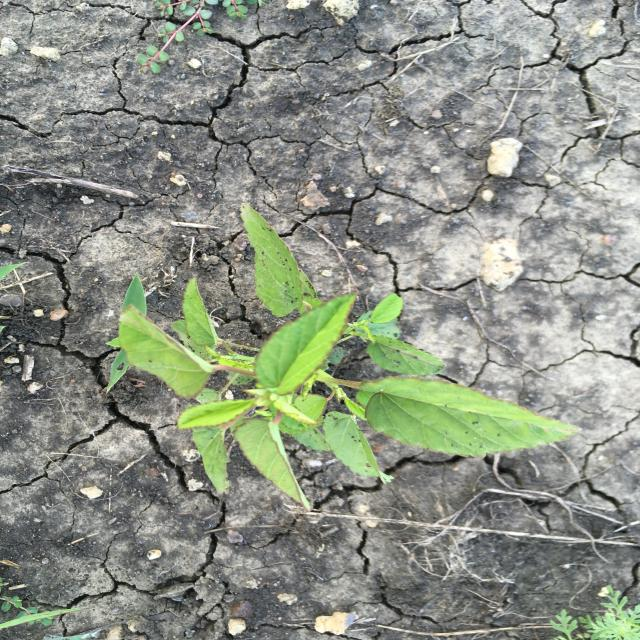PricklySida: (115, 198, 584, 513)
Ragweed: (548, 584, 638, 640)
SpottedSpurge: (134, 0, 258, 76), (0, 594, 55, 626)
